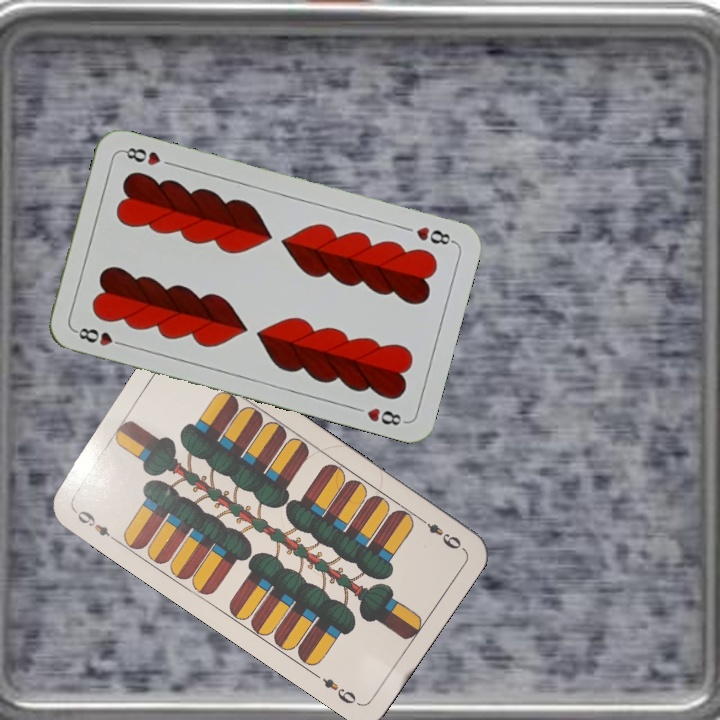E9: (69, 504, 120, 545), (414, 513, 464, 552)
H8: (70, 323, 129, 349), (412, 222, 457, 248)
